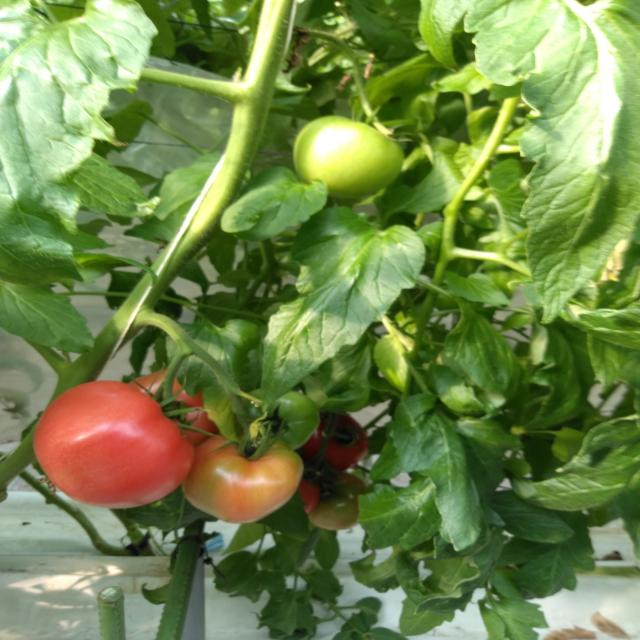n-half-riped: (181, 431, 303, 525), (127, 368, 219, 448)
n-riped: (31, 379, 195, 508), (303, 409, 368, 471)
n-unriped: (292, 115, 404, 200), (232, 387, 320, 451), (307, 472, 372, 531)
